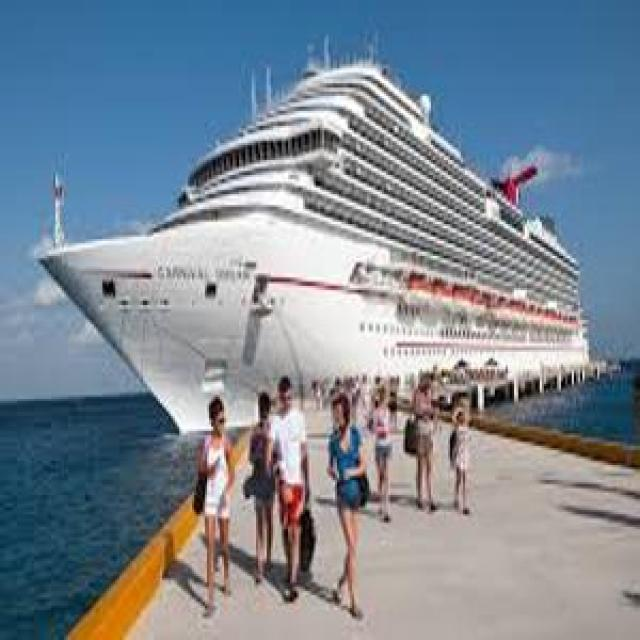passenger ship: (39, 33, 594, 420)
